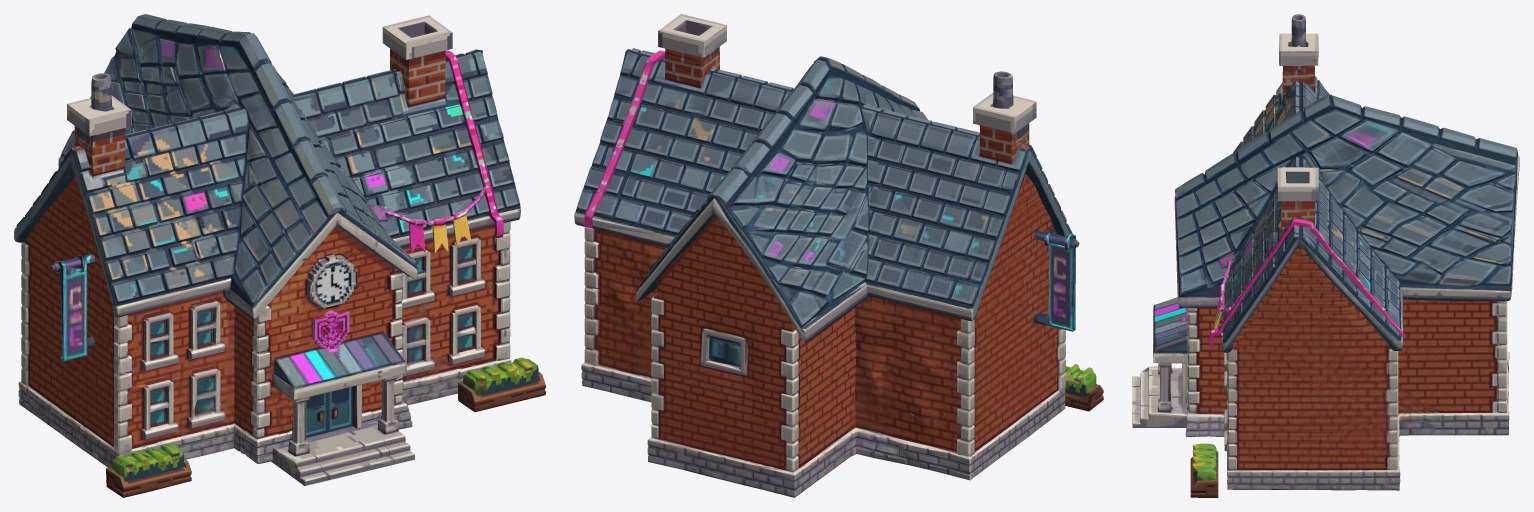
File: wildern.glb
The picture shows the model from 3 angles, left to right: view 1: azimuth 30°, elevation 25°; view 2: azimuth 150°, elevation 25°; view 3: azimuth 270°, elevation 25°; orthographic projection. The views are drawn at different scales.
Bounding box in the file's own units: 26 × 20.39 × 22.51.
Materials: 1 (1 with a texture image).
